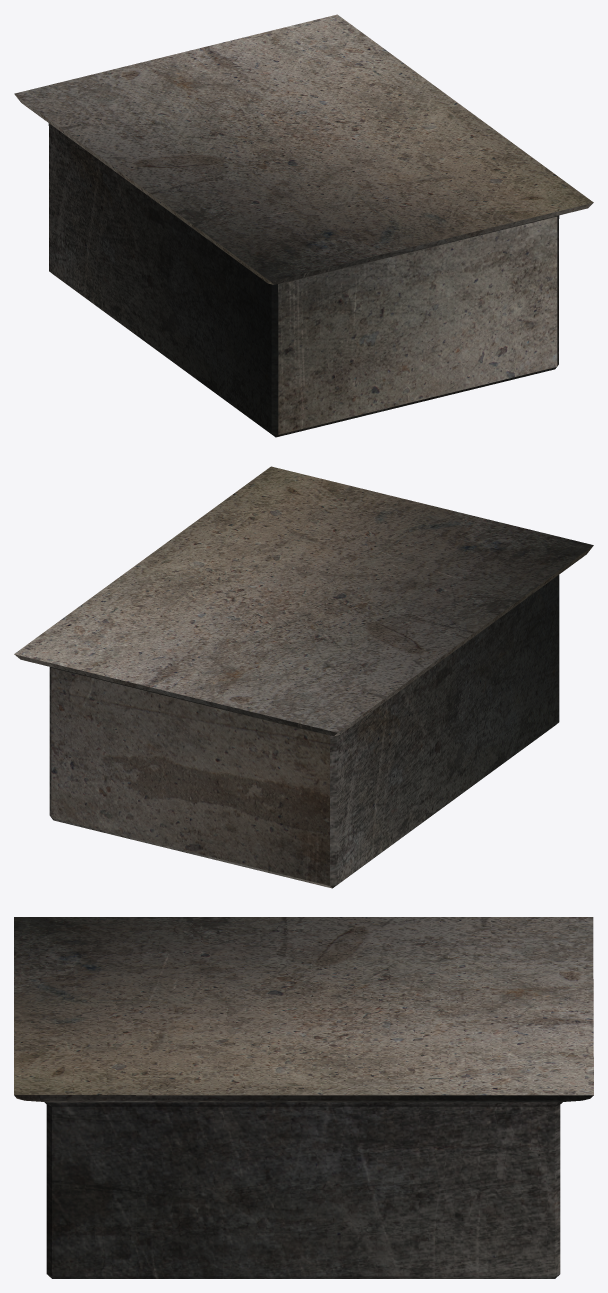
Rendered from IlhaCozinha.fbx.
3 renders of one model, top to bottom at view 1: azimuth 30°, elevation 25°; view 2: azimuth 150°, elevation 25°; view 3: azimuth 270°, elevation 25°, orthographic. The views are drawn at different scales.
Visible parts, largest first — view 1: IlhaCozinha; view 2: IlhaCozinha; view 3: IlhaCozinha.
Part boxes in pixels (x1,y1,x2,y2): IlhaCozinha: (14,14,593,437); IlhaCozinha: (14,466,593,888); IlhaCozinha: (14,917,593,1278).
Size of the model in its own units: 1.51 by 0.7751 by 2.08.
Materials: 1 (1 with a texture image).
